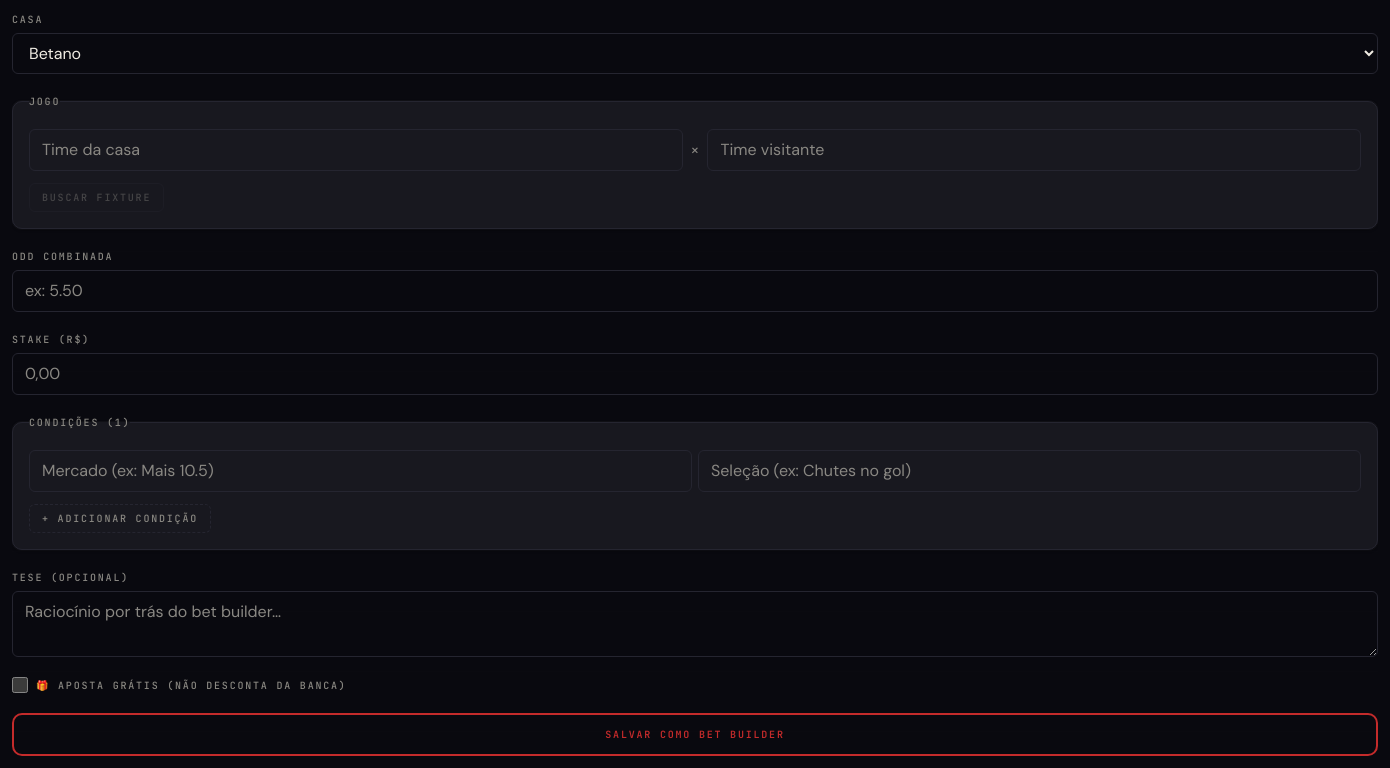
Test: BuilderForm — add/remove leg › removes a leg when × is clicked (only if >1 leg remains)
This screenshot has width=1390, height=768.
// Add one leg first so we have 2
Click the button "+ adicionar condição" at [120, 518], box [29,504,211,533]
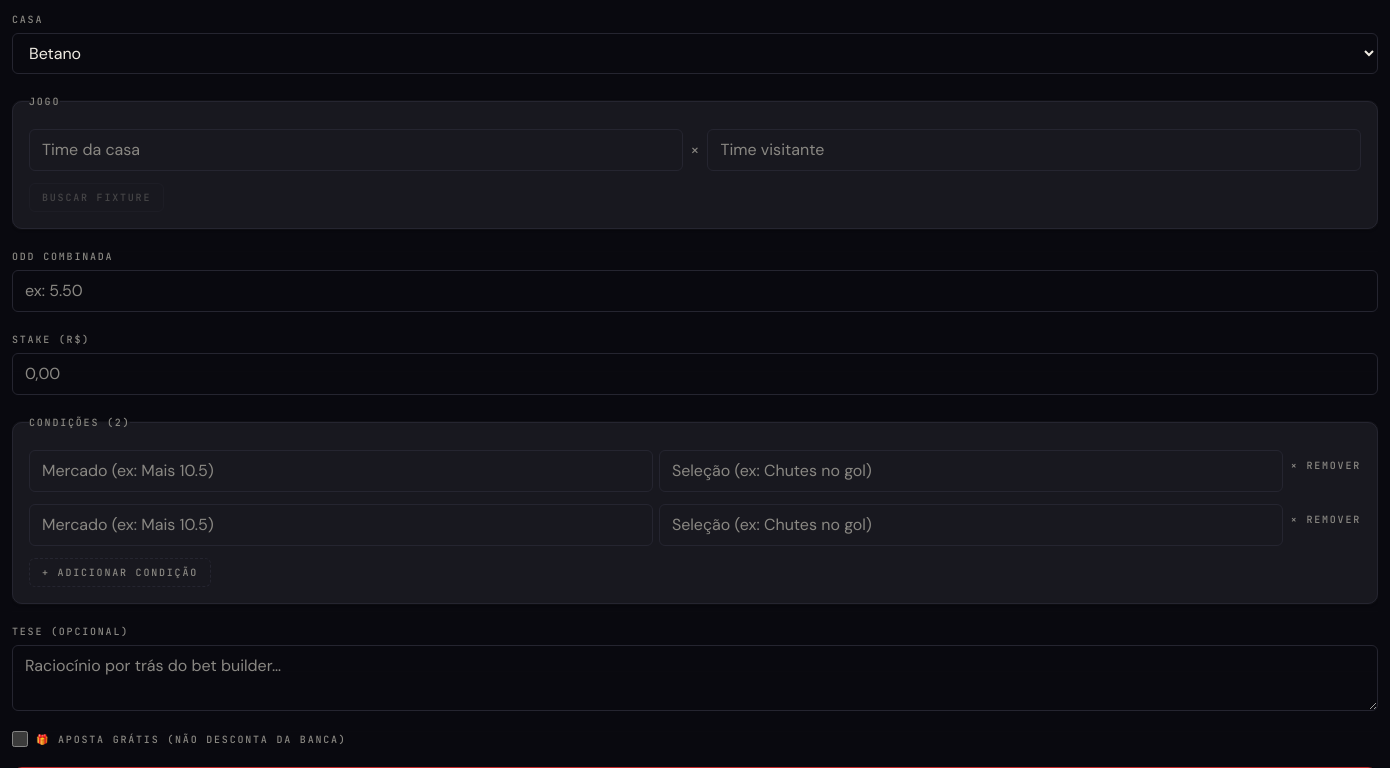
Result: the number of fields with placeholder "Mercado (ex: Mais 10.5)" is 2 at [29,450,653,492]; [29,504,653,546]
// Remove the second leg
Click the 2nd button "× remover" at [1326, 520], box [1291,512,1361,527]
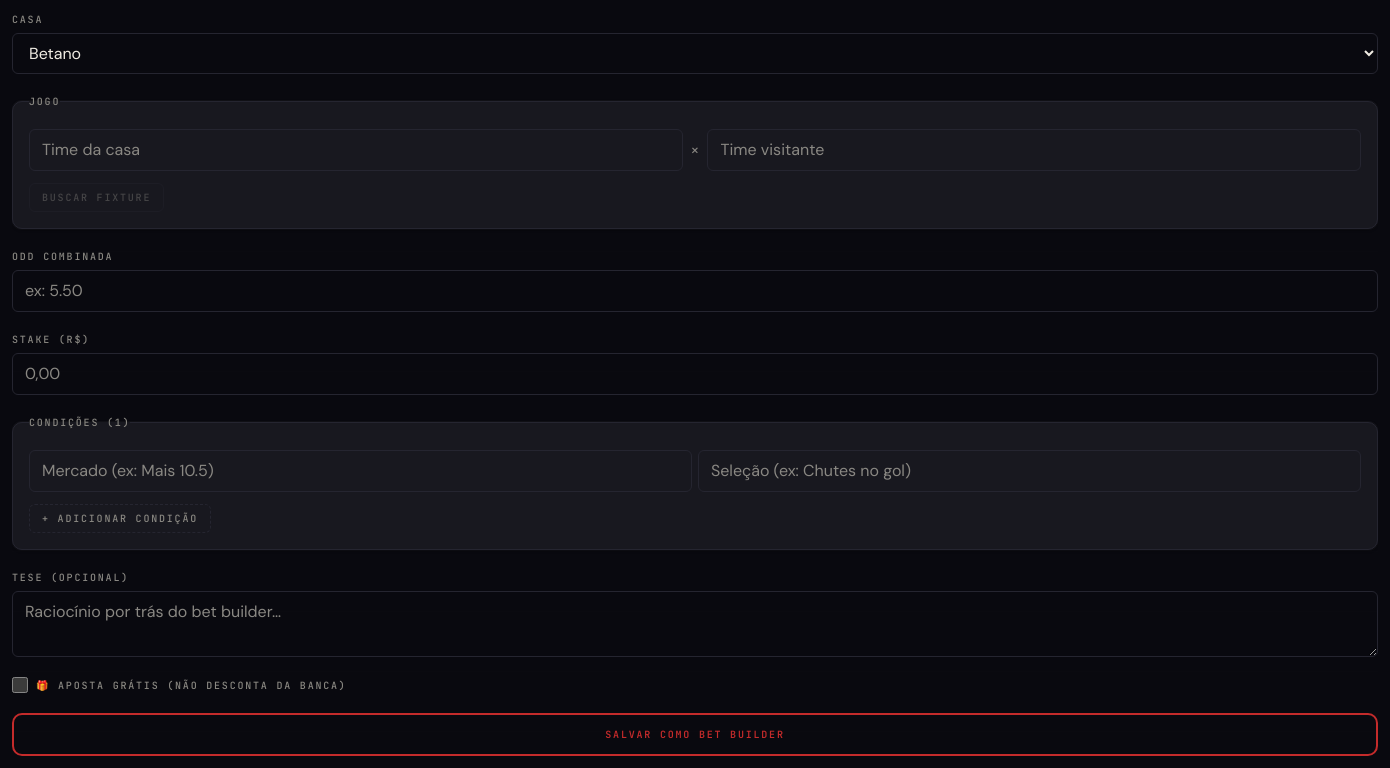
Result: the number of fields with placeholder "Mercado (ex: Mais 10.5)" is 1 at [29,450,692,492]
